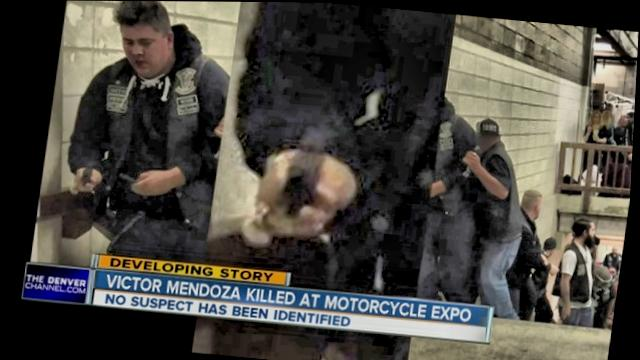pistol: (278, 121, 332, 218), (78, 156, 98, 188)
